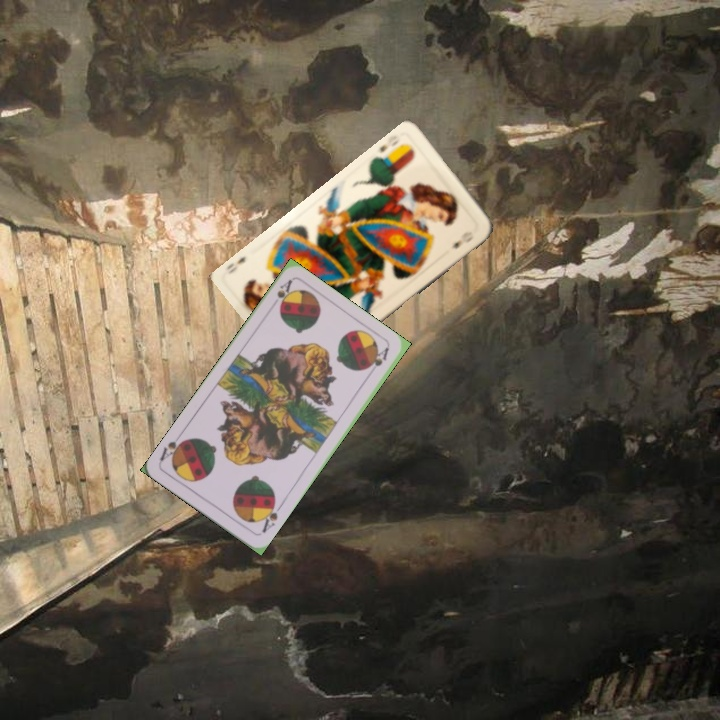EO: (372, 133, 403, 156)
SA: (256, 497, 285, 535), (273, 276, 295, 312)
